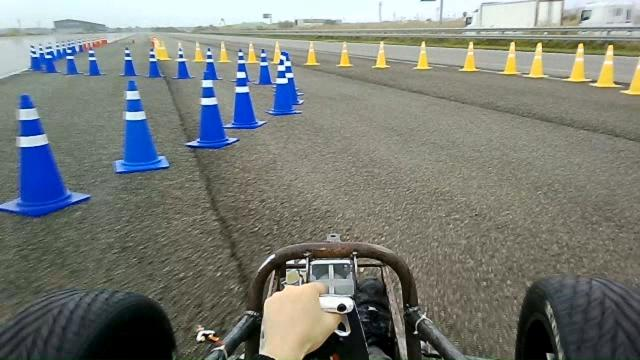blue cone: (0, 93, 91, 217), (114, 79, 170, 173), (184, 77, 240, 149), (223, 69, 267, 129), (264, 56, 303, 116), (280, 52, 304, 104)
yellow cone: (589, 44, 623, 88), (561, 42, 592, 82), (522, 41, 548, 78), (498, 41, 521, 75), (620, 58, 639, 96), (458, 41, 480, 72), (412, 40, 433, 70), (371, 40, 391, 69), (303, 40, 320, 66), (336, 41, 353, 67)
